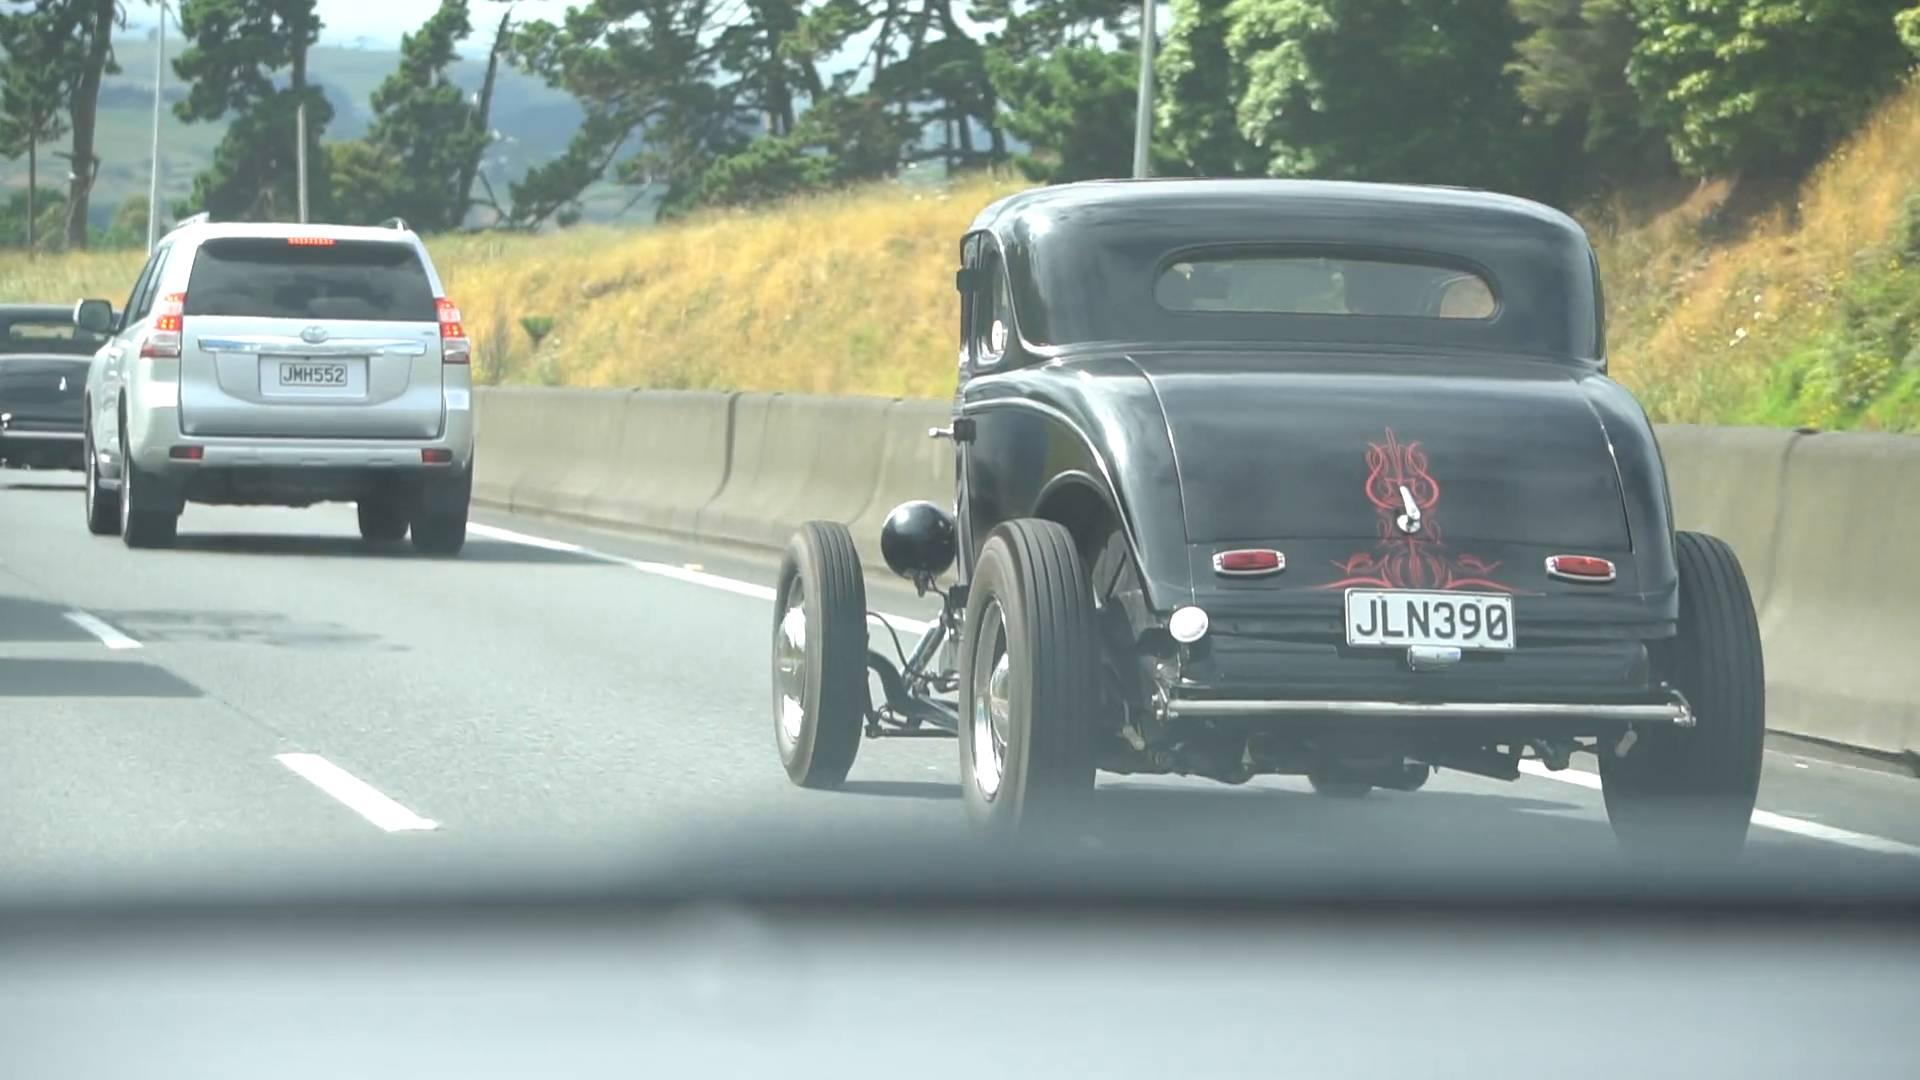car: (763, 168, 1766, 848), (66, 205, 480, 556)
license_plate: (1342, 582, 1517, 654), (275, 356, 348, 388)
